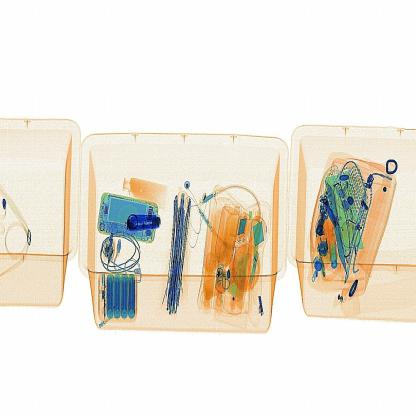scissors: (122, 206, 163, 239)
